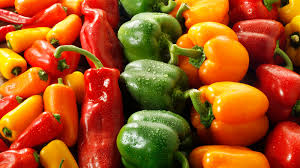bell pepper: (186, 77, 276, 144), (75, 42, 116, 168), (172, 23, 248, 81), (115, 104, 180, 168), (117, 10, 182, 69), (124, 58, 183, 114), (35, 76, 79, 143), (250, 57, 299, 106), (8, 109, 62, 153), (240, 18, 280, 65), (187, 144, 264, 168), (18, 38, 66, 75), (3, 69, 56, 100), (259, 115, 300, 154), (2, 95, 39, 137), (2, 29, 44, 52), (49, 21, 85, 45)
